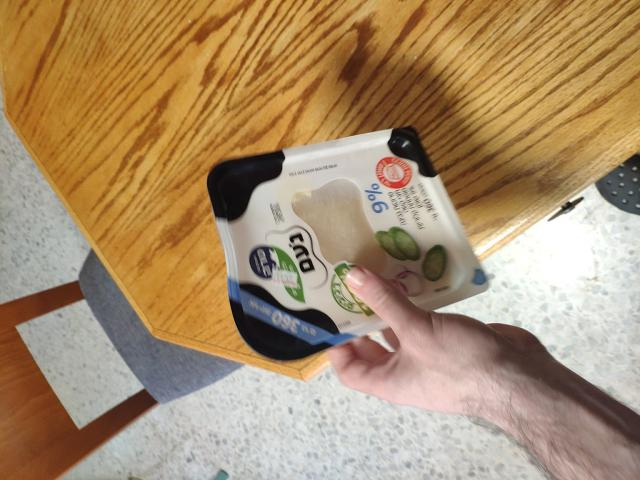cheese: (213, 131, 442, 353)
